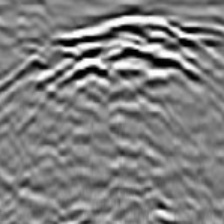cavities: (8, 4, 222, 104)
